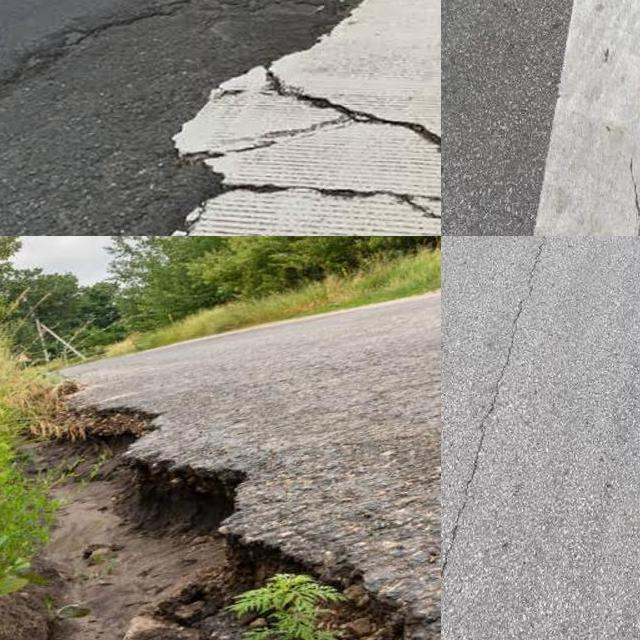Memanjang: (441, 236, 565, 640)
Pinggir: (12, 372, 441, 640)
Sambungan: (168, 0, 441, 236)
